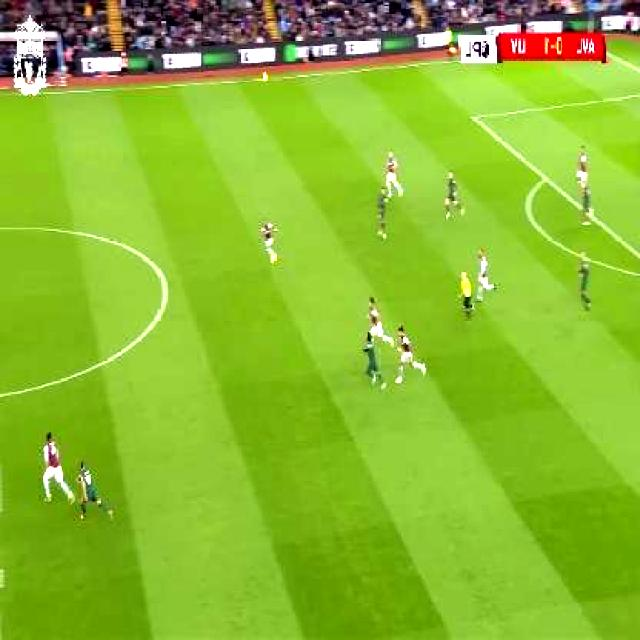bigarea_top_inner: (468, 106, 483, 126)
top_arc_area_intersection: (540, 168, 554, 186)
